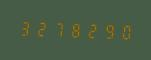eight: (65, 19, 80, 40)
nine: (97, 20, 112, 41)
seven: (49, 19, 64, 39)
three: (17, 17, 32, 38)
two: (33, 18, 48, 39), (81, 20, 96, 40)
zero: (113, 21, 128, 41)
